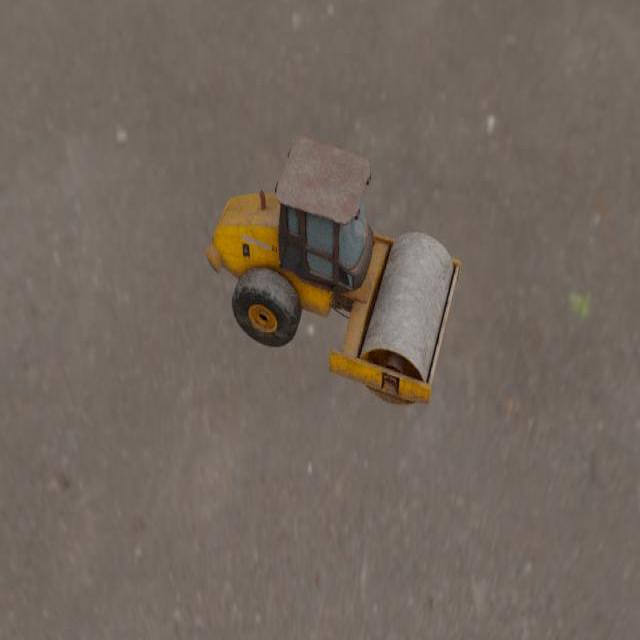Roller: (205, 136, 461, 407)
